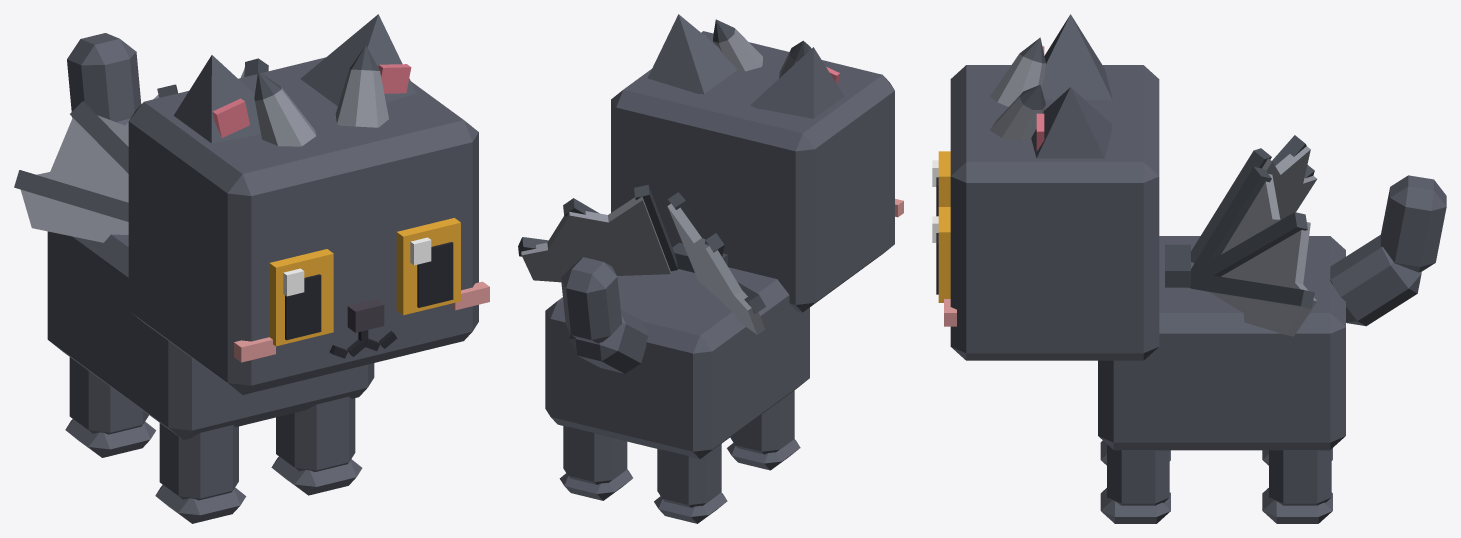
File: CatCafe_Cat_Gargoyle.glb
3 views of the same model, side by side, from view 1: azimuth 30°, elevation 25°; view 2: azimuth 150°, elevation 25°; view 3: azimuth 270°, elevation 25° (orthographic). The views are drawn at different scales.
Visible parts, largest first — view 1: CatCafe_Cat_Gargoyle_Head, CatCafe_Cat_Gargoyle_Body, CatCafe_Cat_Gargoyle_Prop, CatCafe_Cat_Gargoyle_LegF2, CatCafe_Cat_Gargoyle_LegF1, CatCafe_Cat_Gargoyle_Prop2, CatCafe_Cat_Gargoyle_Eye1, CatCafe_Cat_Gargoyle_Eye2, CatCafe_Cat_Gargoyle_Tail, CatCafe_Cat_Gargoyle_LegB2, CatCafe_Cat_Gargoyle_EarR, CatCafe_Cat_Gargoyle_EarL; view 2: CatCafe_Cat_Gargoyle_Head, CatCafe_Cat_Gargoyle_Body, CatCafe_Cat_Gargoyle_Prop, CatCafe_Cat_Gargoyle_Tail, CatCafe_Cat_Gargoyle_LegB2, CatCafe_Cat_Gargoyle_LegB1, CatCafe_Cat_Gargoyle_EarL, CatCafe_Cat_Gargoyle_EarR, CatCafe_Cat_Gargoyle_LegF2, CatCafe_Cat_Gargoyle_Prop2; view 3: CatCafe_Cat_Gargoyle_Head, CatCafe_Cat_Gargoyle_Body, CatCafe_Cat_Gargoyle_Prop, CatCafe_Cat_Gargoyle_Tail, CatCafe_Cat_Gargoyle_LegF1, CatCafe_Cat_Gargoyle_LegB1, CatCafe_Cat_Gargoyle_EarL, CatCafe_Cat_Gargoyle_EarR, CatCafe_Cat_Gargoyle_Prop2, CatCafe_Cat_Gargoyle_Eye1, CatCafe_Cat_Gargoyle_Eye2.
Boxes of the visible parts, x1,y1,x2,y2 form: CatCafe_Cat_Gargoyle_Head: [128, 57, 489, 394]; CatCafe_Cat_Gargoyle_Body: [47, 231, 374, 439]; CatCafe_Cat_Gargoyle_Prop: [14, 58, 268, 242]; CatCafe_Cat_Gargoyle_LegF2: [155, 423, 246, 523]; CatCafe_Cat_Gargoyle_LegF1: [271, 396, 362, 495]; CatCafe_Cat_Gargoyle_Prop2: [254, 45, 388, 146]; CatCafe_Cat_Gargoyle_Eye1: [396, 218, 460, 315]; CatCafe_Cat_Gargoyle_Eye2: [269, 249, 333, 346]; CatCafe_Cat_Gargoyle_Tail: [67, 33, 141, 125]; CatCafe_Cat_Gargoyle_LegB2: [65, 357, 155, 457]; CatCafe_Cat_Gargoyle_EarR: [174, 55, 260, 143]; CatCafe_Cat_Gargoyle_EarL: [300, 14, 416, 106]; CatCafe_Cat_Gargoyle_Head: [611, 31, 903, 312]; CatCafe_Cat_Gargoyle_Body: [545, 267, 809, 459]; CatCafe_Cat_Gargoyle_Prop: [518, 184, 765, 334]; CatCafe_Cat_Gargoyle_Tail: [561, 257, 648, 373]; CatCafe_Cat_Gargoyle_LegB2: [654, 444, 727, 523]; CatCafe_Cat_Gargoyle_LegB1: [559, 426, 632, 500]; CatCafe_Cat_Gargoyle_EarL: [648, 14, 737, 94]; CatCafe_Cat_Gargoyle_EarR: [750, 47, 844, 118]; CatCafe_Cat_Gargoyle_LegF2: [727, 390, 800, 470]; CatCafe_Cat_Gargoyle_Prop2: [713, 19, 811, 78]; CatCafe_Cat_Gargoyle_Head: [944, 65, 1159, 360]; CatCafe_Cat_Gargoyle_Body: [1098, 236, 1345, 450]; CatCafe_Cat_Gargoyle_Prop: [1165, 135, 1317, 336]; CatCafe_Cat_Gargoyle_Tail: [1330, 175, 1446, 326]; CatCafe_Cat_Gargoyle_LegF1: [1100, 444, 1170, 523]; CatCafe_Cat_Gargoyle_LegB1: [1262, 449, 1332, 523]; CatCafe_Cat_Gargoyle_EarL: [1031, 87, 1112, 158]; CatCafe_Cat_Gargoyle_EarR: [1041, 14, 1112, 99]; CatCafe_Cat_Gargoyle_Prop2: [990, 37, 1045, 140]; CatCafe_Cat_Gargoyle_Eye1: [932, 207, 950, 302]; CatCafe_Cat_Gargoyle_Eye2: [932, 151, 950, 216].
Size of the model in its own units: 1.22 by 1.86 by 1.97.
Materials: 1 (1 with a texture image).
